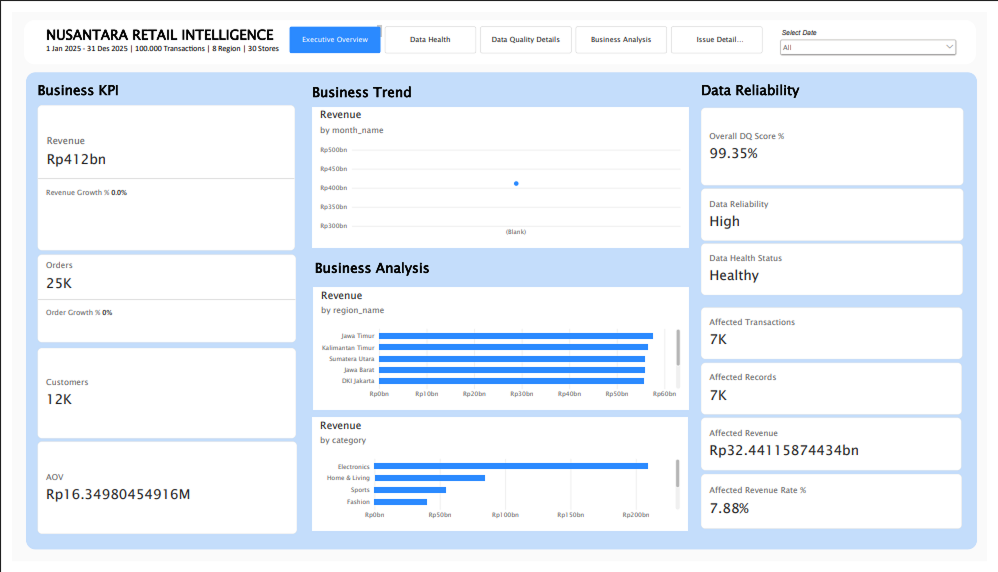

The page's visual inventory and layout, read from the dashboard file:
{"tool":"powerbi","page":{"name":"Executive Overview","canvas":[1920,1080],"ordinal":0},"visuals":[{"type":"group","id":"g1","title":"Navbar and Layout","box":[22.5,15,1878.2,1042.9],"z":0},{"type":"textbox","box":[66.1,60.6,706.9,24.3],"z":0,"group":"g6"},{"type":"shape","box":[26.3,117.5,1874.4,940.4],"z":0,"group":"g1"},{"type":"group","id":"g2","title":"Card Trend","box":[591.2,138.4,741.4,325.9],"z":0,"group":"g10"},{"type":"cardVisual","fields":{"Data":["MEASURES (2).Revenue"]},"box":[49,182.3,509.7,288.1],"z":0,"group":"g7"},{"type":"lineChart","fields":{"Category":["warehouse dim_date.month_name"],"Y":["MEASURES (2).Revenue"]},"box":[591.2,187.8,741.4,276.6],"z":0,"group":"g2"},{"type":"cardVisual","fields":{"Data":["MEASURES (2).Overall DQ Score %"]},"box":[1356.9,188.4,517.8,153.3],"z":0,"group":"g8"},{"type":"textbox","box":[596,484.2,735.3,51.3],"z":0,"group":"g4"},{"type":"clusteredBarChart","fields":{"Category":["warehouse dim_region.region_name"],"Y":["MEASURES (2).Revenue"]},"box":[592.9,542.4,739.1,241.3],"z":0,"group":"g5"},{"type":"cardVisual","fields":{"Data":["MEASURES (2).Affected Transactions"]},"box":[1356.9,581,515.6,102.2],"z":0,"group":"g9"},{"type":"slicer","fields":{"Values":["warehouse dim_date.date"]},"box":[1507.5,31.7,356.7,53.3],"z":500,"group":"g6"},{"type":"shape","box":[22.5,15,1875.7,87.9],"z":1000,"group":"g1"},{"type":"textbox","box":[66.1,25,660.5,30.8],"z":1000,"group":"g6"},{"type":"group","id":"g3","title":"Main","box":[49,134,1825.7,893],"z":1000},{"type":"textbox","box":[591.5,138.4,498.5,47.8],"z":1000,"group":"g2"},{"type":"cardVisual","fields":{"Data":["MEASURES (2).Data Reliability"]},"box":[1356.9,347.3,517.8,103.3],"z":1000,"group":"g8"},{"type":"cardVisual","fields":{"Data":["MEASURES (2).Orders"]},"box":[49.8,477.3,509.7,173.6],"z":1000,"group":"g7"},{"type":"group","id":"g4","title":"Card Analysis","box":[590.8,484.2,741.2,536.2],"z":1000,"group":"g10"},{"type":"group","id":"g5","title":"Group 4","box":[590.8,542.4,741.2,478],"z":1000,"group":"g4"},{"type":"cardVisual","fields":{"Data":["MEASURES (2).Affected Records"]},"box":[1356.9,689.9,514.4,102.2],"z":1000,"group":"g9"},{"type":"clusteredBarChart","fields":{"Category":["warehouse dim_product.category"],"Y":["MEASURES (2).Revenue"]},"box":[590.8,798.7,740.5,223],"z":1000,"group":"g5"},{"type":"pageNavigator","box":[544.8,27.5,933.3,53.3],"z":1500,"group":"g6"},{"type":"cardVisual","fields":{"Data":["MEASURES (2).Data Health Status"]},"box":[1356.9,455.1,516.7,102.2],"z":2000,"group":"g8"},{"type":"cardVisual","fields":{"Data":["MEASURES (2).Customers"]},"box":[49.8,661.1,509.7,178.3],"z":2000,"group":"g7"},{"type":"cardVisual","fields":{"Data":["MEASURES (2).Affected Revenue"]},"box":[1356.9,797.7,513.3,104.4],"z":2000,"group":"g9"},{"type":"group","id":"g6","title":"Group 1","box":[66.1,25,1798.1,60],"z":3000,"group":"g1"},{"type":"group","id":"g7","title":"Card KPI","box":[49,134,512,893],"z":3000,"group":"g3"},{"type":"textbox","box":[1356.7,134.3,509.2,48.9],"z":3000,"group":"g8"},{"type":"cardVisual","fields":{"Data":["MEASURES (2).AOV"]},"box":[49.8,844.8,511.2,182.2],"z":3000,"group":"g7"},{"type":"cardVisual","fields":{"Data":["MEASURES (2).Affected Revenue Rate %"]},"box":[1356.9,908.8,514.4,108.9],"z":3000,"group":"g9"},{"type":"textbox","box":[50.4,134,506.6,42.5],"z":4000,"group":"g7"},{"type":"group","id":"g8","title":"Data Realibility","box":[1356.7,134.3,518,883.4],"z":4000,"group":"g3"},{"type":"group","id":"g9","title":"Group 5","box":[1356.9,581,515.6,436.7],"z":4000,"group":"g8"},{"type":"group","id":"g10","title":"C2","box":[590.8,138.4,741.8,882.1],"z":5000,"group":"g3"}]}

Visuals, with their boxes in screenshot pixels (x1, y1, x2, y2), scaled from the page's 1920x1080 canvas onto the 998x572 screenshot:
"Navbar and Layout" group: 12/8/988/560
textbox: 34/32/402/45
shape: 14/62/988/560
"Card Trend" group: 307/73/693/246
cardVisual - MEASURES (2).Revenue: 25/97/290/249
lineChart - warehouse dim_date.month_name x MEASURES (2).Revenue: 307/99/693/246
cardVisual - MEASURES (2).Overall DQ Score %: 705/100/974/181
textbox: 310/256/692/284
clusteredBarChart - warehouse dim_region.region_name x MEASURES (2).Revenue: 308/287/692/415
cardVisual - MEASURES (2).Affected Transactions: 705/308/973/362
slicer - warehouse dim_date.date: 784/17/969/45
shape: 12/8/987/54
textbox: 34/13/378/30
"Main" group: 25/71/974/544
textbox: 307/73/567/99
cardVisual - MEASURES (2).Data Reliability: 705/184/974/239
cardVisual - MEASURES (2).Orders: 26/253/291/345
"Card Analysis" group: 307/256/692/540
"Group 4" group: 307/287/692/540
cardVisual - MEASURES (2).Affected Records: 705/365/973/420
clusteredBarChart - warehouse dim_product.category x MEASURES (2).Revenue: 307/423/692/541
pageNavigator: 283/15/768/43
cardVisual - MEASURES (2).Data Health Status: 705/241/974/295
cardVisual - MEASURES (2).Customers: 26/350/291/445
cardVisual - MEASURES (2).Affected Revenue: 705/422/972/478
"Group 1" group: 34/13/969/45
"Card KPI" group: 25/71/292/544
textbox: 705/71/970/97
cardVisual - MEASURES (2).AOV: 26/447/292/544
cardVisual - MEASURES (2).Affected Revenue Rate %: 705/481/973/539
textbox: 26/71/290/93
"Data Realibility" group: 705/71/974/539
"Group 5" group: 705/308/973/539
"C2" group: 307/73/693/540
